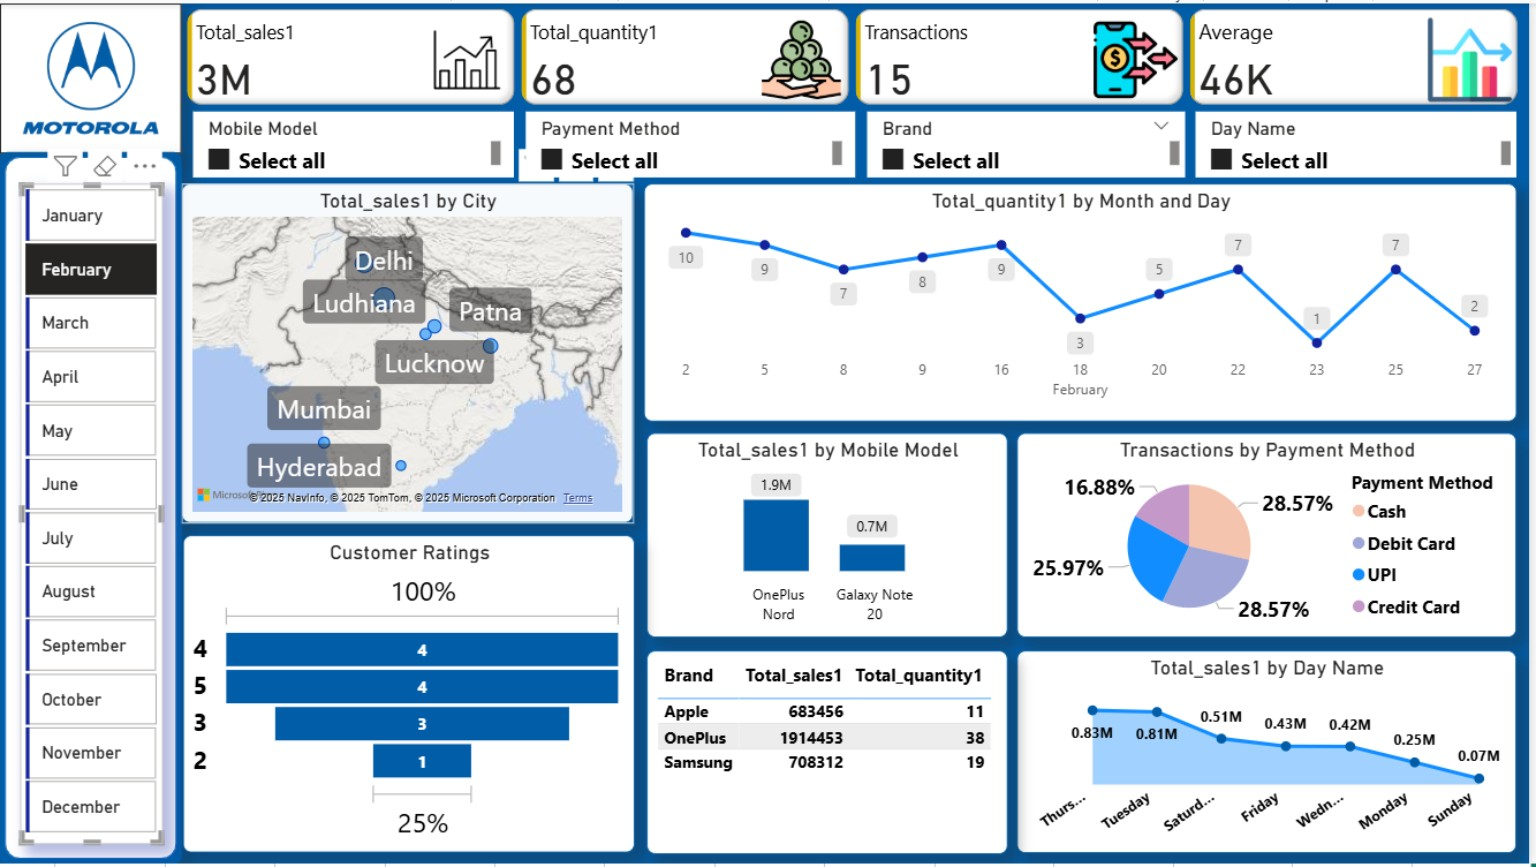

The dashboard page shown, as its layout file describes it:
{"tool":"powerbi","page":{"name":"Mobile Sales data","canvas":[1280,720],"ordinal":0},"visuals":[{"type":"image","box":[0,0,152,125.5],"z":0},{"type":"shape","box":[0,124.3,152,596],"z":1000},{"type":"advancedSlicerVisual","fields":{"Values":["Sales_Data.Date.Variation.Date Hierarchy.Month"]},"box":[16.5,150.9,119.4,553],"z":2000},{"type":"cardVisual","fields":{"Data":["Sales_Data.Total_sales1","Sales_Data.Total_quantity1","Sales_Data.Transactions","Sales_Data.Average"]},"box":[152.3,0,1128,90.6],"z":3000},{"type":"map","fields":{"Category":["Sales_Data.City"],"Size":["Sales_Data.Total_sales1"]},"box":[152.3,150.9,378.7,284],"z":4000},{"type":"lineChart","fields":{"Y":["Sales_Data.Total_quantity1"],"Category":["Sales_Data.Date.Variation.Date Hierarchy.Month","Sales_Data.Date.Variation.Date Hierarchy.Day"]},"box":[539.3,150.9,731.4,199],"z":5000},{"type":"clusteredColumnChart","fields":{"Category":["Sales_Data.Mobile Model"],"Y":["Sales_Data.Total_sales1"]},"box":[541.2,358.9,302.4,171],"z":6000},{"type":"pieChart","fields":{"Y":["Sales_Data.Transactions"],"Category":["Sales_Data.Payment Method"]},"box":[852.1,358.9,418.3,171],"z":7000},{"type":"funnel","title":" Customer Ratings","fields":{"Category":["Sales_Data.Customer Ratings"],"Y":["CountNonNull(Sales_Data.Customer Ratings)"]},"box":[152.6,445.1,378.7,265.7],"z":8000},{"type":"areaChart","fields":{"Category":["Sales_Data.Day Name"],"Y":["Sales_Data.Total_sales1"]},"box":[852.1,541.2,418.3,169.6],"z":9000},{"type":"tableEx","fields":{"Values":["Sales_Data.Brand","Sales_Data.Total_sales1","Sales_Data.Total_quantity1"]},"box":[541.7,541.7,302.5,170.2],"z":10000},{"type":"slicer","fields":{"Values":["Sales_Data.Mobile Model"]},"box":[161.9,90.6,269,54.9],"z":11000},{"type":"slicer","fields":{"Values":["Sales_Data.Payment Method"]},"box":[440.5,90.6,275.8,54.9],"z":12000},{"type":"slicer","fields":{"Values":["Sales_Data.Brand"]},"box":[725.9,90.6,266.2,54.9],"z":13000},{"type":"slicer","fields":{"Values":["Sales_Data.Day Name"]},"box":[1001.7,90.6,269,54.9],"z":14000}]}

Visuals, with their boxes in screenshot pixels (x1, y1, x2, y2), scaled from the page's 1280x720 canvas onto the 1536x867 screenshot:
image: crop(0, 0, 182, 151)
shape: crop(0, 150, 182, 866)
advancedSlicerVisual - Sales_Data.Date.Variation.Date Hierarchy.Month: crop(20, 182, 163, 848)
cardVisual - Sales_Data.Total_sales1 x Sales_Data.Total_quantity1: crop(183, 0, 1535, 109)
map - Sales_Data.City x Sales_Data.Total_sales1: crop(183, 182, 637, 524)
lineChart - Sales_Data.Total_quantity1 x Sales_Data.Date.Variation.Date Hierarchy.Month: crop(647, 182, 1525, 421)
clusteredColumnChart - Sales_Data.Mobile Model x Sales_Data.Total_sales1: crop(649, 432, 1012, 638)
pieChart - Sales_Data.Transactions x Sales_Data.Payment Method: crop(1023, 432, 1524, 638)
" Customer Ratings" funnel: crop(183, 536, 638, 856)
areaChart - Sales_Data.Day Name x Sales_Data.Total_sales1: crop(1023, 652, 1524, 856)
tableEx - Sales_Data.Brand x Sales_Data.Total_sales1: crop(650, 652, 1013, 857)
slicer - Sales_Data.Mobile Model: crop(194, 109, 517, 175)
slicer - Sales_Data.Payment Method: crop(529, 109, 860, 175)
slicer - Sales_Data.Brand: crop(871, 109, 1191, 175)
slicer - Sales_Data.Day Name: crop(1202, 109, 1525, 175)
